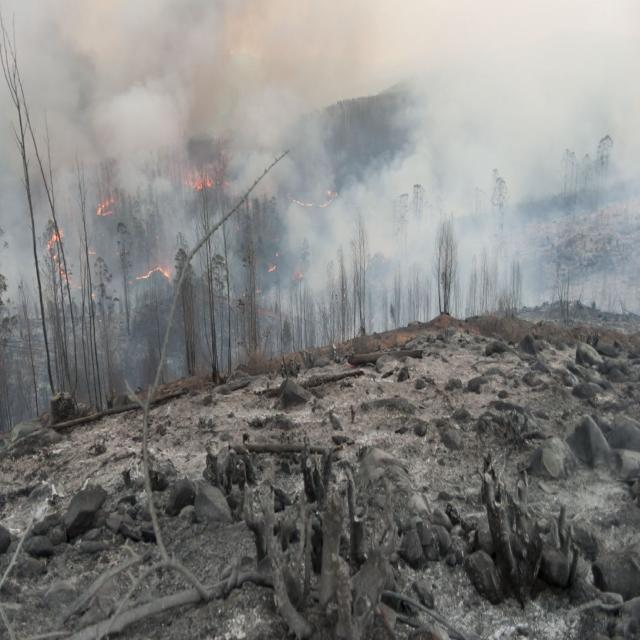Fire: (46, 227, 85, 293), (292, 187, 338, 210), (134, 264, 170, 283), (96, 196, 119, 218), (185, 173, 212, 191), (268, 263, 276, 274)
Smoke: (90, 78, 191, 168), (338, 134, 446, 198), (169, 0, 230, 81), (224, 90, 304, 148), (284, 204, 336, 293), (222, 144, 290, 200), (448, 233, 484, 322), (294, 115, 331, 200), (115, 157, 171, 194), (250, 284, 308, 314), (130, 199, 156, 236)
